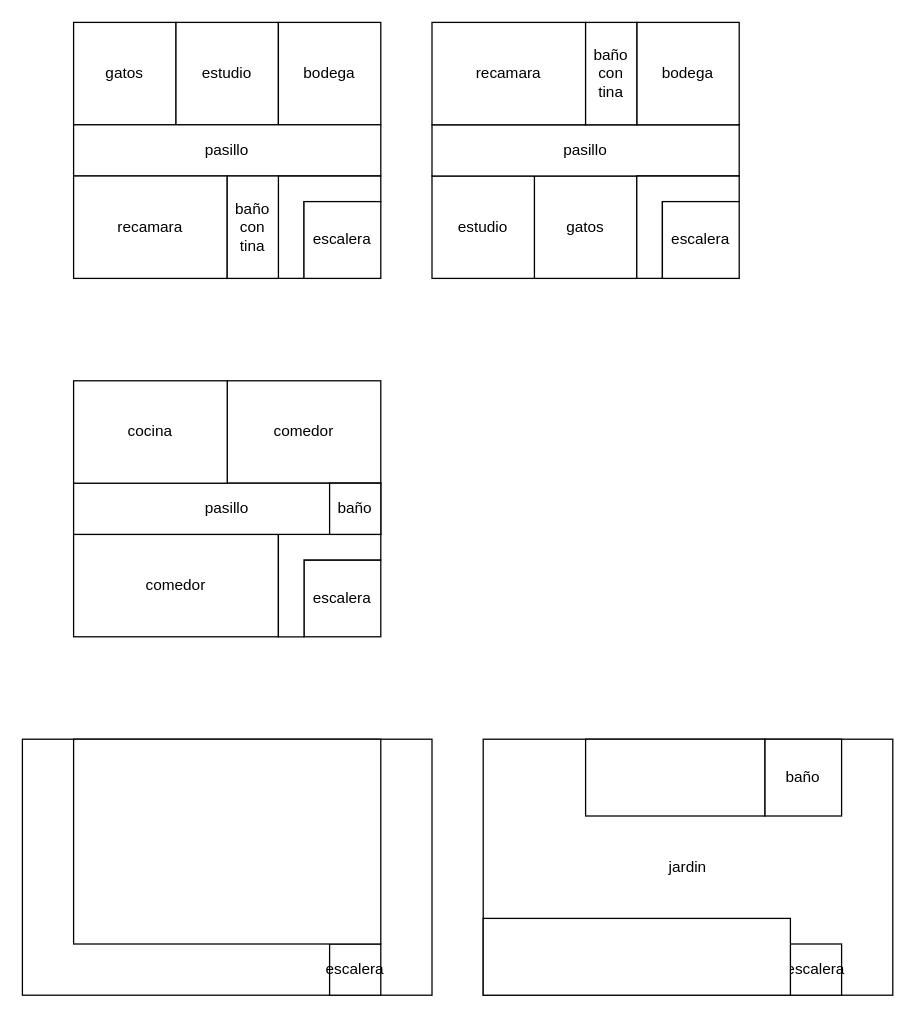
Image size: 915x1018. Some labels were removed from this diagram. Each missing label, with the box of its shape:
base de casa: (72, 738, 381, 944)
garage: (482, 917, 790, 995)
lavado: (584, 738, 765, 816)
